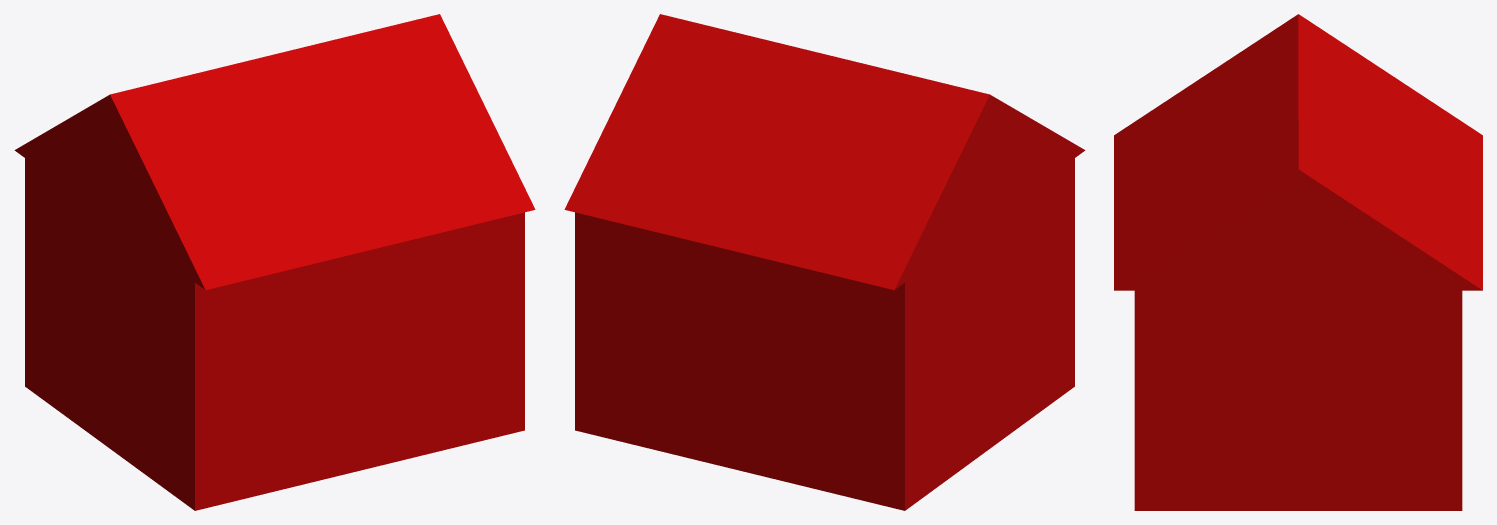
The model's file is Boardgame_Token_Property_Red_01.fbx.
3 views of the same model, side by side, from view 1: azimuth 30°, elevation 25°; view 2: azimuth 150°, elevation 25°; view 3: azimuth 270°, elevation 25° (orthographic). The views are drawn at different scales.
Parts seen in each view (by area): view 1: Boardgame_Token_Property_Red_01; view 2: Boardgame_Token_Property_Red_01; view 3: Boardgame_Token_Property_Red_01.
Boxes of the visible parts, x1,y1,x2,y2 form: Boardgame_Token_Property_Red_01: (14,14,535,510); Boardgame_Token_Property_Red_01: (564,14,1085,510); Boardgame_Token_Property_Red_01: (1114,14,1482,510).
Size of the model in its own units: 27.33 by 28.04 by 27.43.
